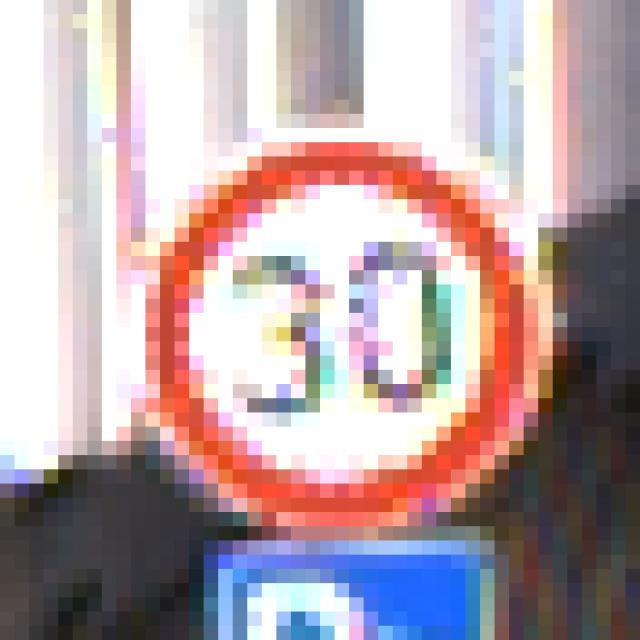Speed Limit -30-: (65, 78, 560, 562)
